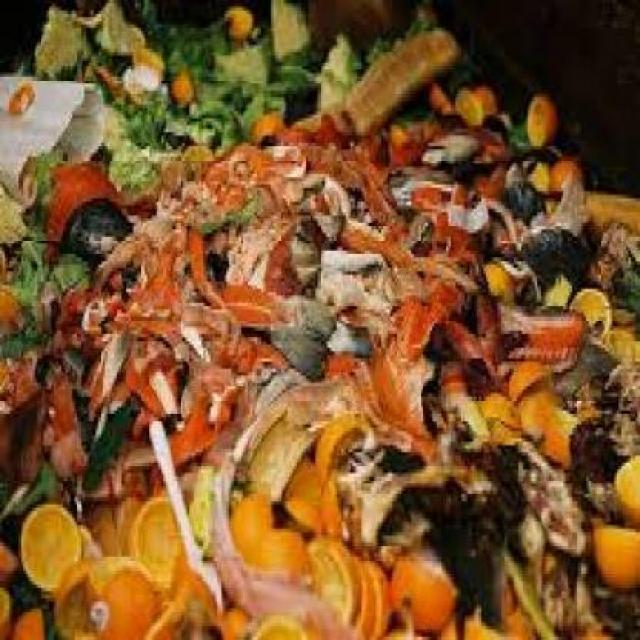garbage: (37, 22, 600, 610)
